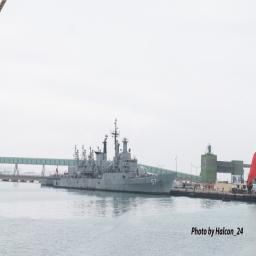Fragata: (53, 114, 179, 199)
